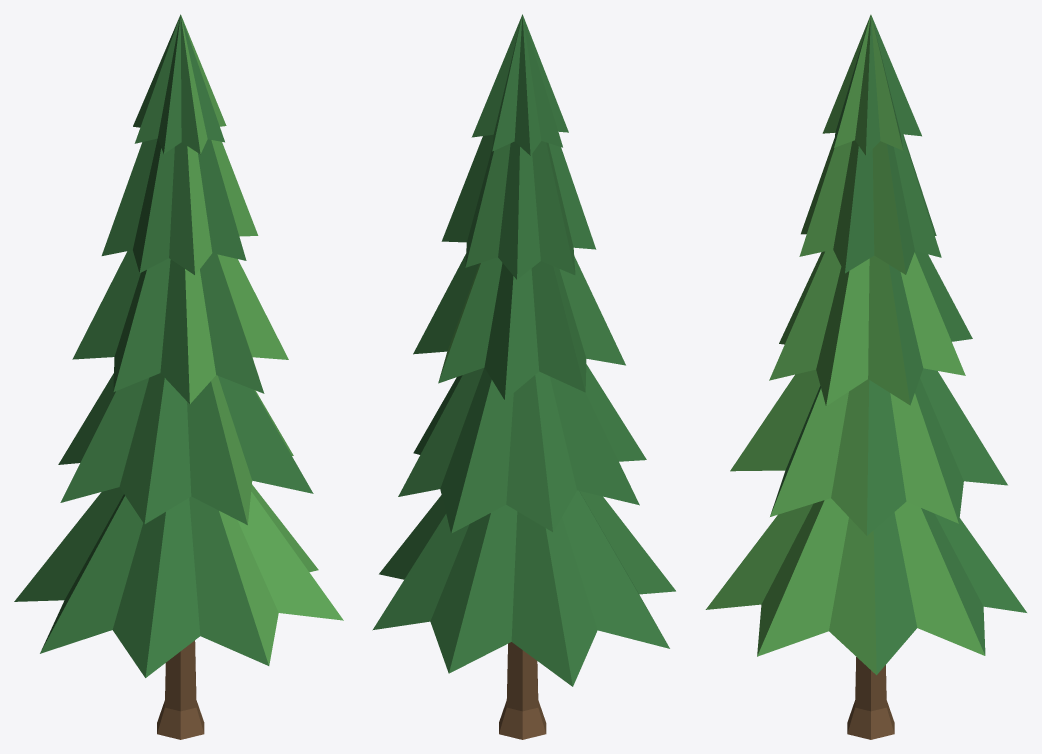
The model's file is tree_pine_a.glb.
3 views of the same model, side by side, from view 1: azimuth 30°, elevation 25°; view 2: azimuth 150°, elevation 25°; view 3: azimuth 270°, elevation 25° (orthographic).
Parts seen in each view (by area): view 1: tree_pine_a; view 2: tree_pine_a; view 3: tree_pine_a.
Boxes of the visible parts, left/top/right/bottom form: tree_pine_a: left=14, top=14, right=343, bottom=739; tree_pine_a: left=372, top=14, right=675, bottom=739; tree_pine_a: left=705, top=14, right=1026, bottom=739.
Size of the model in its own units: 5.44 by 13 by 5.31.
